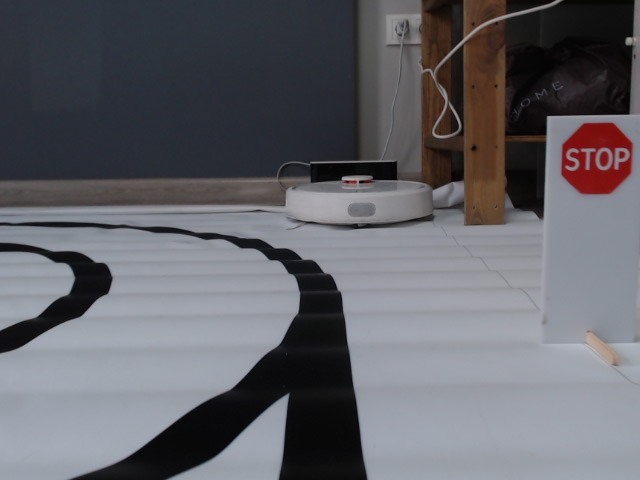Stop: (560, 121, 635, 196)
